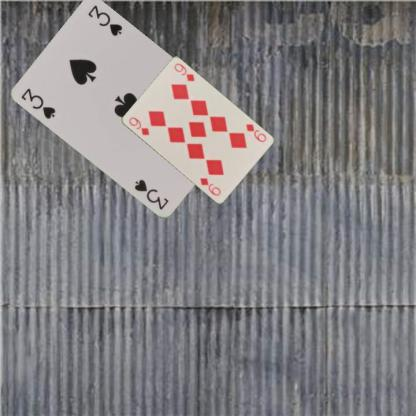3s: (19, 85, 57, 120)
9d: (243, 121, 268, 144), (126, 114, 150, 136)
